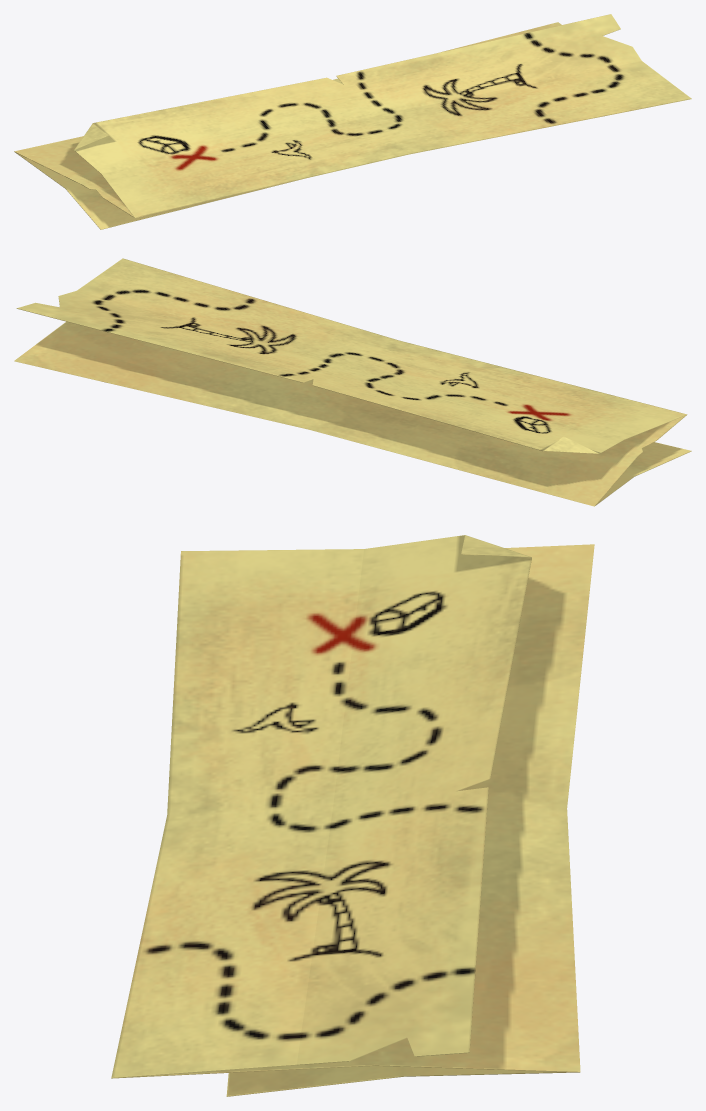
File: trimap.fbx
3 views of the same model, one above another, from view 1: azimuth 30°, elevation 25°; view 2: azimuth 150°, elevation 25°; view 3: azimuth 270°, elevation 25° (orthographic). The views are drawn at different scales.
Visible parts, largest first — view 1: Map; view 2: Map; view 3: Map.
Part boxes in pixels (box(x1,y1,x2,y2)): Map: box(14, 14, 691, 229); Map: box(14, 258, 691, 506); Map: box(111, 535, 594, 1096).
Size of the model in its own units: 210 by 13.64 by 77.41.
Materials: 1 (1 with a texture image).
